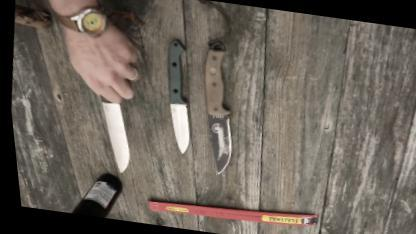knife: (56, 37, 155, 180), (189, 100, 242, 182), (156, 95, 198, 160)
